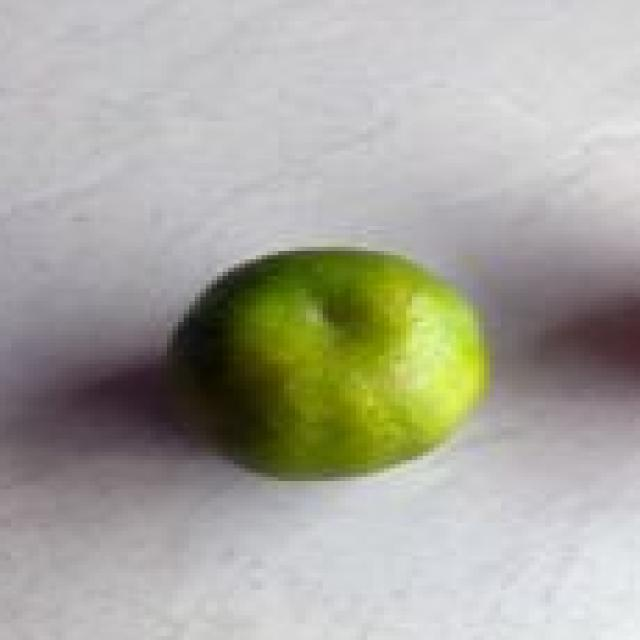Good_Orange-15-21 days: (173, 251, 484, 481)
